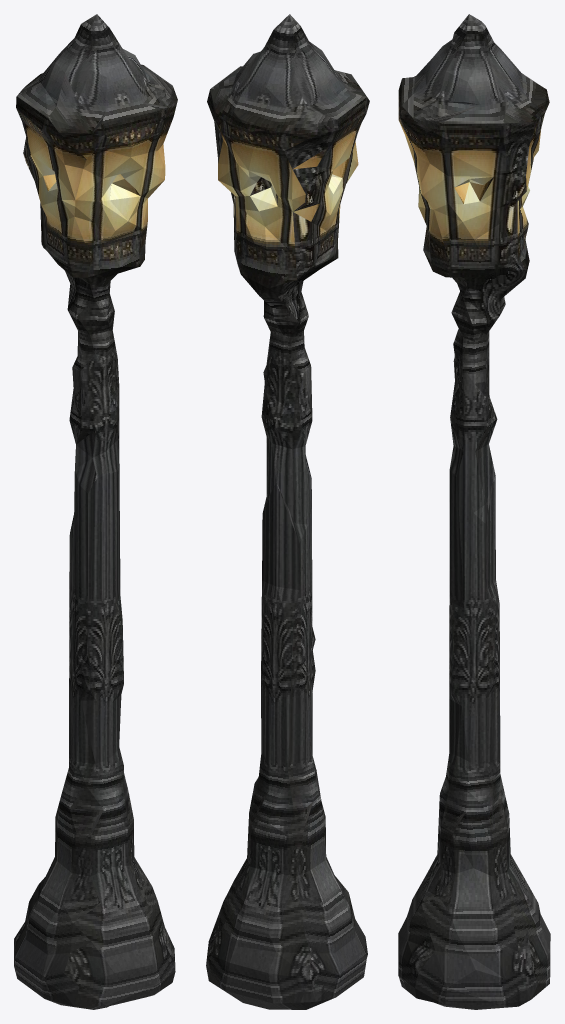
The model's file is lamppost_high.glb.
The picture shows the model from 3 angles, left to right: view 1: azimuth 30°, elevation 25°; view 2: azimuth 150°, elevation 25°; view 3: azimuth 270°, elevation 25°; orthographic projection.
Visible parts, largest first — view 1: lamppost_high; view 2: lamppost_high; view 3: lamppost_high.
Boxes of the visible parts, x1=… form: lamppost_high: x1=14, y1=14, x2=177, y2=1009; lamppost_high: x1=206, y1=14, x2=369, y2=1009; lamppost_high: x1=398, y1=14, x2=550, y2=1009.
Size of the model in its own units: 0.463 by 3.26 by 0.4587.
1 material, 1 textured.
